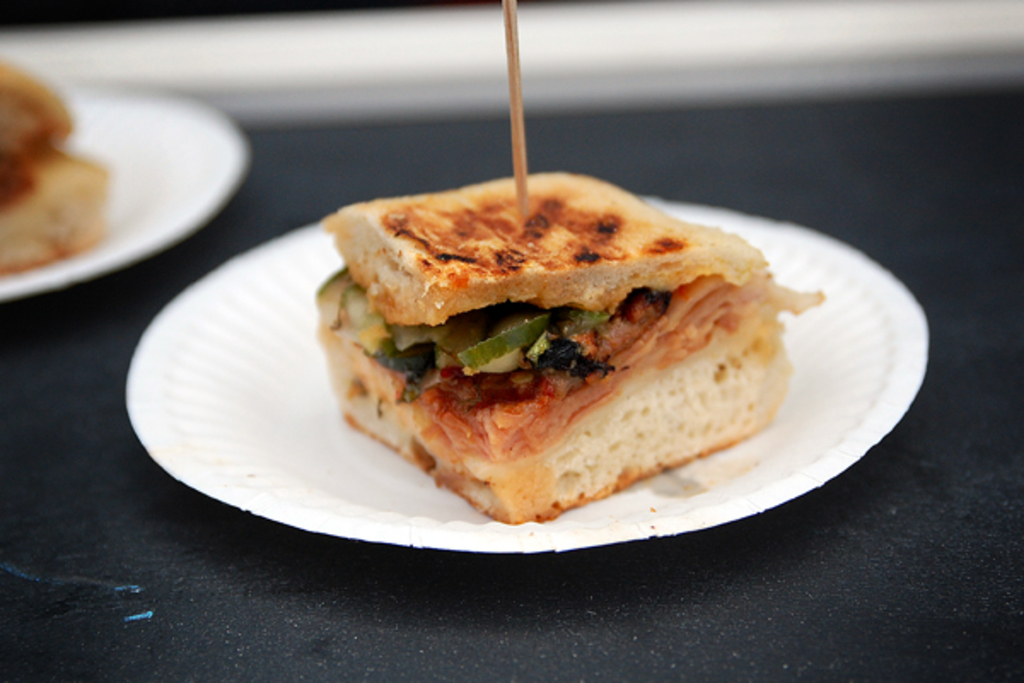sandwich: (304, 164, 824, 522), (0, 51, 116, 278)
